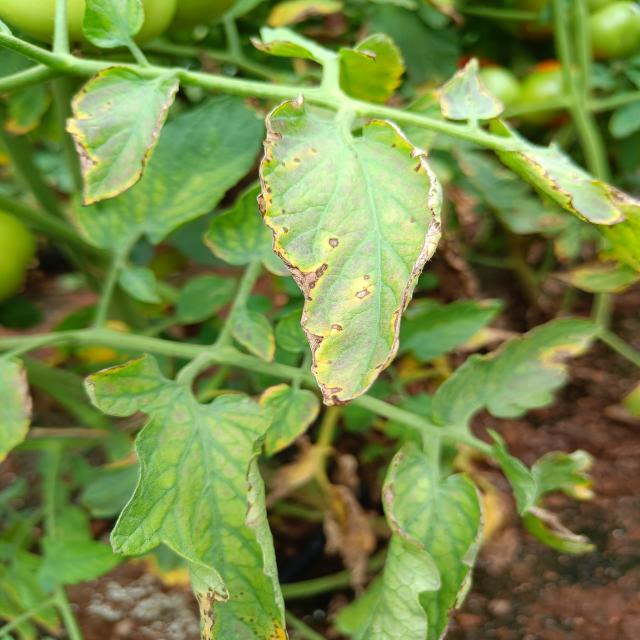Tomato mosaic virus leaf: (242, 92, 451, 412)
